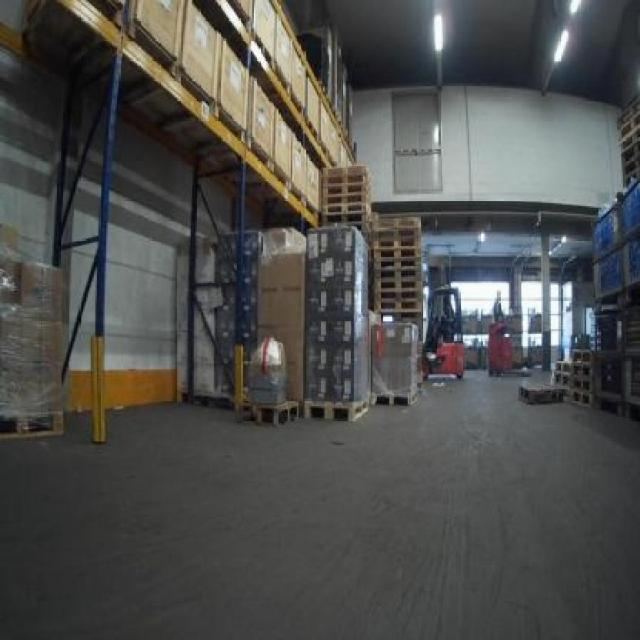floor: (0, 371, 637, 637)
pallets: (303, 225, 368, 417)
